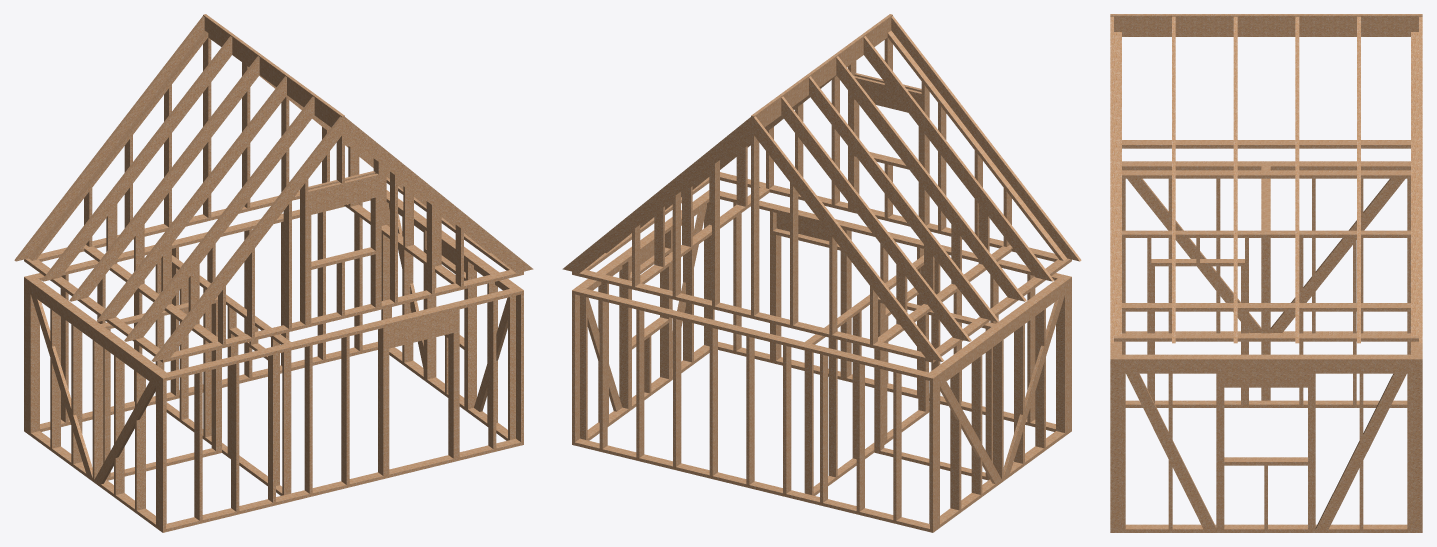
File: SM_Bath_OSB_Frame.fbx
3 views of the same model, side by side, from view 1: azimuth 30°, elevation 25°; view 2: azimuth 150°, elevation 25°; view 3: azimuth 270°, elevation 25° (orthographic). The views are drawn at different scales.
Parts seen in each view (by area): view 1: SM_Bath_OSB_Frame; view 2: SM_Bath_OSB_Frame; view 3: SM_Bath_OSB_Frame.
Boxes of the visible parts, left/top/right/bottom form: SM_Bath_OSB_Frame: left=14, top=14, right=533, bottom=532; SM_Bath_OSB_Frame: left=562, top=14, right=1081, bottom=532; SM_Bath_OSB_Frame: left=1110, top=14, right=1422, bottom=532.
Size of the model in its own units: 632 by 592 by 400.
